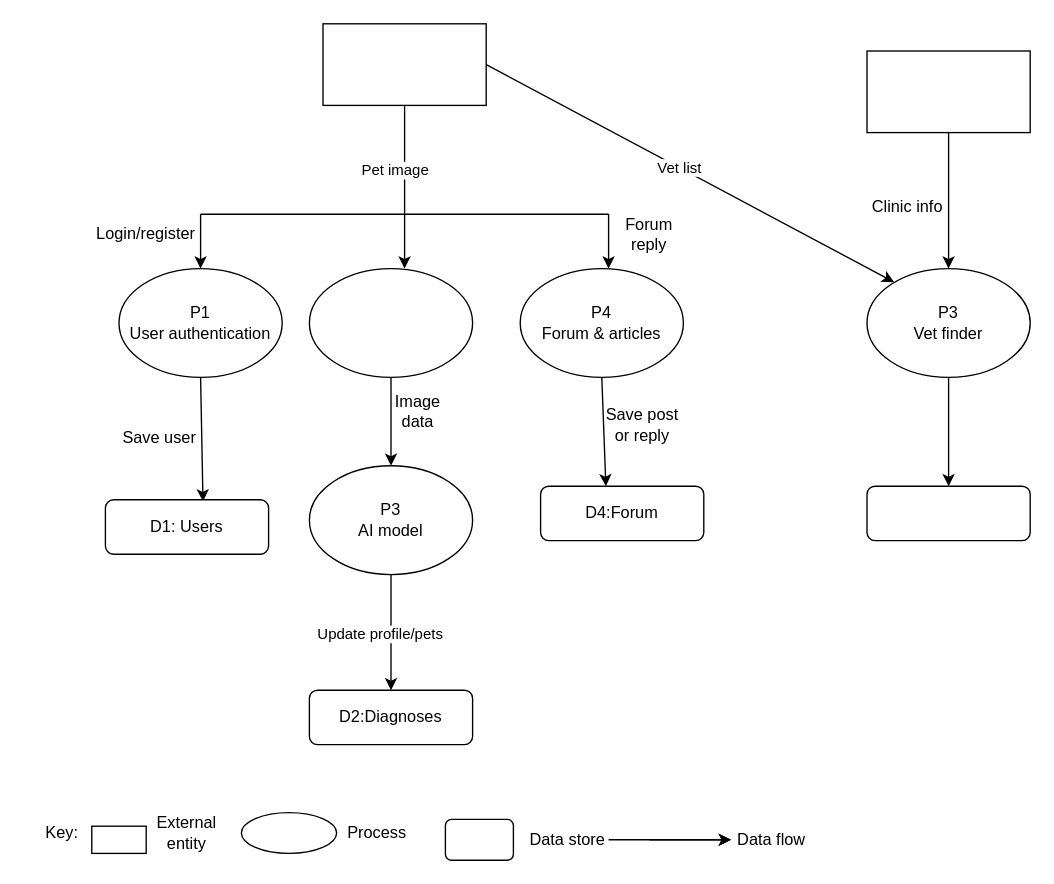
Some shapes in this 1054 by 884 pixel diagram are drawn without their labels. The shapes that lost their labels are listed below. From the top down, each one's box as (x1, y1, x2, y2) in pixels, then its label:
(322, 22, 486, 105): Pet Owner External entity
(866, 50, 1030, 133): Vet Doctor External entity
(308, 267, 473, 377): P2 Upload & diagnose
(866, 485, 1030, 541): D3:Vets
